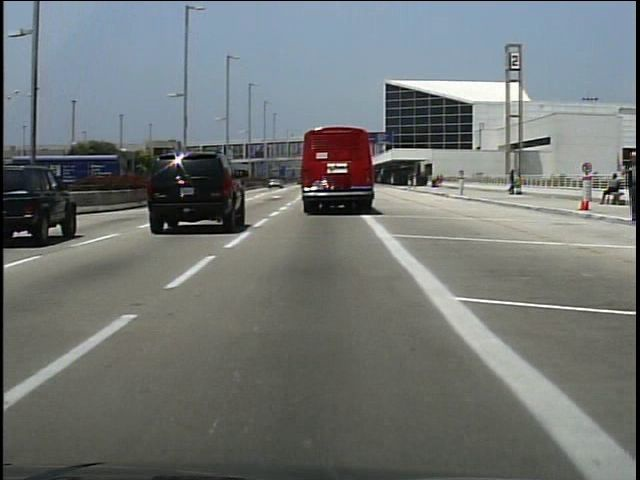person: (598, 172, 622, 208)
